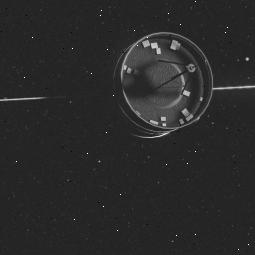double_start: (80, 27, 228, 139)
